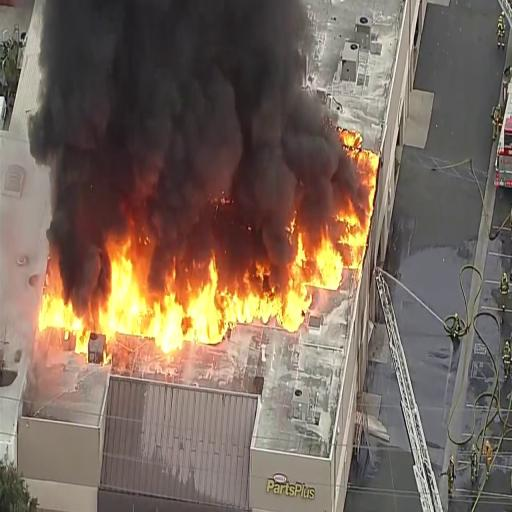fire: (148, 262, 226, 352), (38, 268, 98, 344), (223, 279, 306, 332), (106, 248, 147, 338), (311, 226, 351, 288)
smoke: (66, 0, 287, 193), (290, 116, 343, 202)
